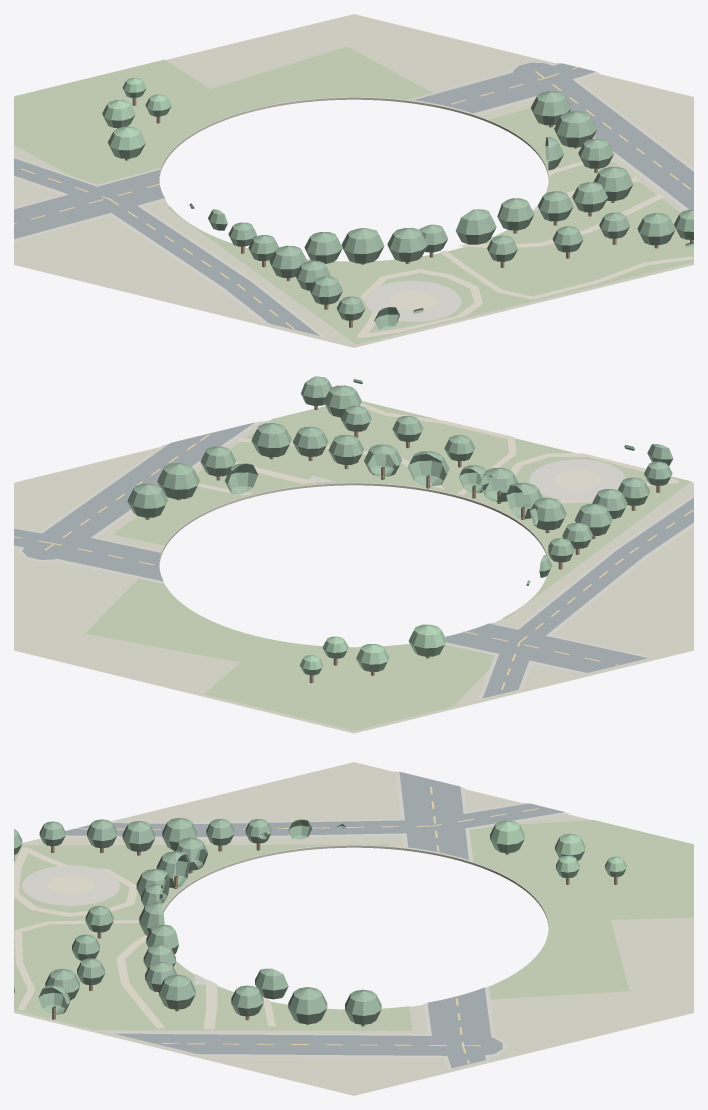
Rendered from surround-P11.glb.
The picture shows the model from 3 angles, top to bottom: view 1: azimuth 30°, elevation 25°; view 2: azimuth 150°, elevation 25°; view 3: azimuth 270°, elevation 25°; orthographic projection.
Parts seen in each view (by area): view 1: P11_ground; view 2: P11_ground; view 3: P11_ground.
Part boxes in pixels (x1,y1,x2,y2): P11_ground: (14, 14, 693, 347); P11_ground: (14, 376, 693, 733); P11_ground: (14, 762, 693, 1095).
Size of the model in its own units: 16.16 by 0.8681 by 14.
Materials: 1 (1 with a texture image).
